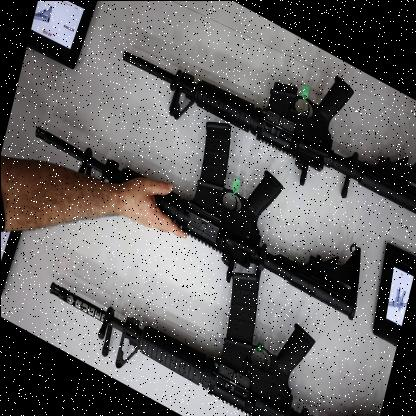rifle: (26, 29, 390, 336), (108, 0, 416, 246), (39, 216, 382, 416)
